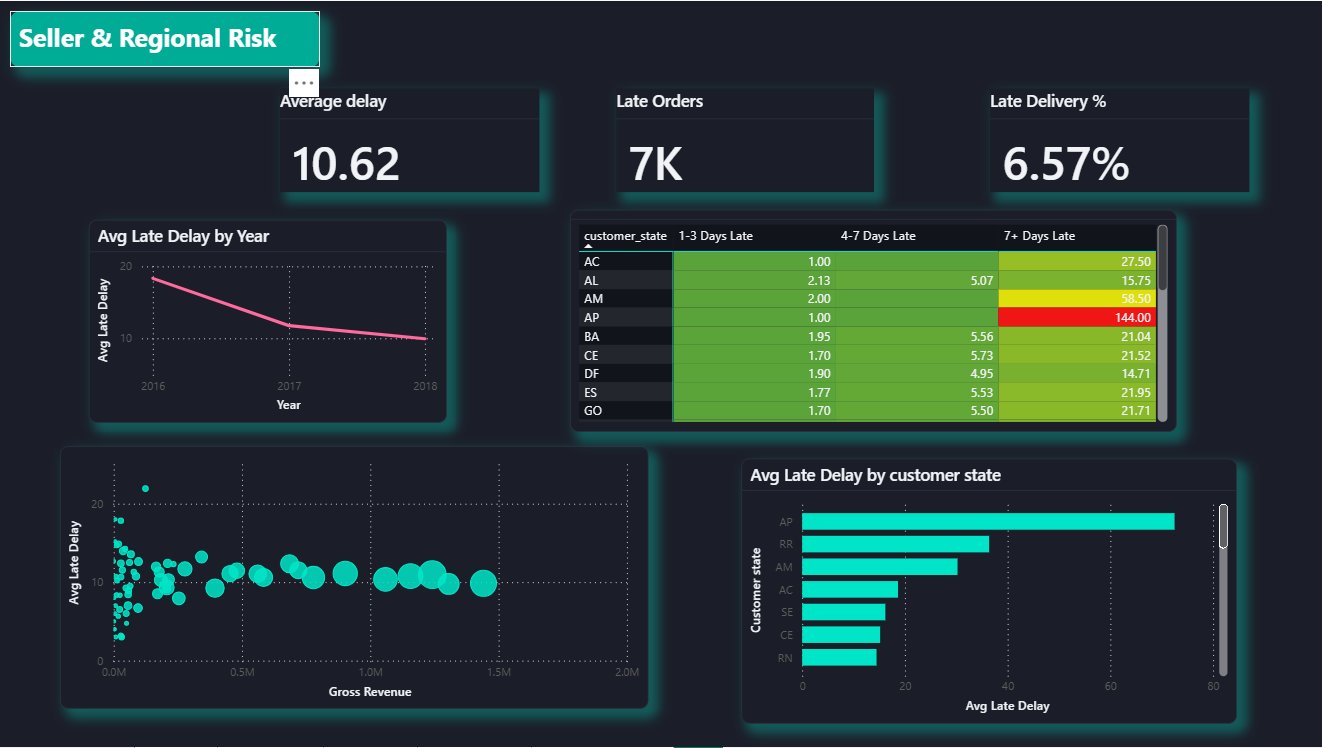

What the dashboard file says about the page in this screenshot:
{"tool":"powerbi","page":{"name":"Regional Risk","canvas":[1280,720],"ordinal":4},"visuals":[{"type":"cardVisual","title":"Late Delivery %","fields":{"Data":["Table.Late Delivery %"]},"box":[955.7,84.3,250,100],"z":0},{"type":"cardVisual","title":"Late Orders","fields":{"Data":["Table.Late Orders"]},"box":[594.3,84.3,248.6,100],"z":1000},{"type":"clusteredBarChart","title":"Avg Late Delay by customer state","fields":{"Category":["customer.customer_state"],"Y":["Table.Avg Delay"]},"box":[715.7,441.4,478.6,255.7],"z":2000},{"type":"cardVisual","title":"Average delay","fields":{"Data":["Table.Avg Delay"]},"box":[270,84.3,250,100],"z":3000},{"type":"scatterChart","fields":{"X":["order_items_clean.Gross_revenue"],"Y":["Table.Avg Delay"],"Size":["CountNonNull(order_items_clean.order_id)"],"Category":["name_clean.product_category_name_english"]},"box":[58.3,430,568.3,253.3],"z":5000},{"type":"pivotTable","fields":{"Rows":["customer.customer_state"],"Columns":["orders_cleaned.Delivery_Bucket"],"Values":["Table.Avg Late Delay"]},"box":[550,201.4,585.7,214.3],"z":6000},{"type":"lineChart","fields":{"Category":["orders_cleaned.pur_date.Variation.Date Hierarchy.Year","orders_cleaned.pur_date.Variation.Date Hierarchy.Month"],"Y":["Table.Avg Late Delay"]},"box":[85.7,211.4,345.7,195.7],"z":7000},{"type":"textbox","title":"Product Portfolio Optimization & Revenue Contribution","box":[9.7,9.7,299.2,54.3],"z":8000}]}

Visuals, with their boxes in screenshot pixels (x1, y1, x2, y2), scaled from the page's 1280x720 canvas onto the 1322x748 screenshot:
"Late Delivery %" cardVisual: (x1=987, y1=88, x2=1245, y2=191)
"Late Orders" cardVisual: (x1=614, y1=88, x2=871, y2=191)
"Avg Late Delay by customer state" clusteredBarChart: (x1=739, y1=459, x2=1233, y2=724)
"Average delay" cardVisual: (x1=279, y1=88, x2=537, y2=191)
scatterChart - order_items_clean.Gross_revenue x Table.Avg Delay: (x1=60, y1=447, x2=647, y2=710)
pivotTable - customer.customer_state x orders_cleaned.Delivery_Bucket: (x1=568, y1=209, x2=1173, y2=432)
lineChart - orders_cleaned.pur_date.Variation.Date Hierarchy.Year x orders_cleaned.pur_date.Variation.Date Hierarchy.Month: (x1=89, y1=220, x2=446, y2=423)
"Product Portfolio Optimization & Revenue Contribution" textbox: (x1=10, y1=10, x2=319, y2=66)
